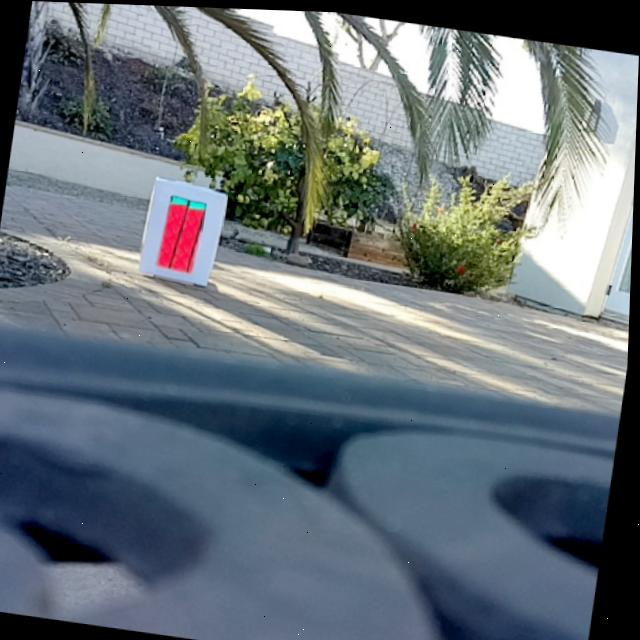led: (159, 191, 208, 273)
